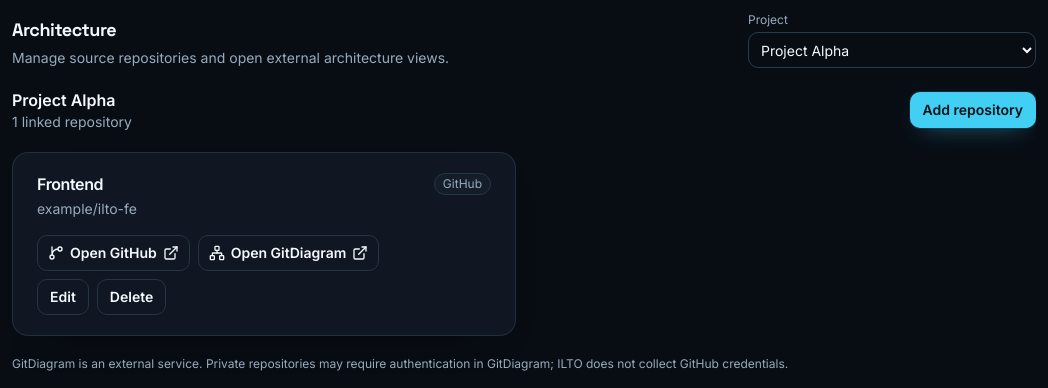
Test: Projects Architecture with a mocked backend › scopes requests by Project and removes the previous Project's cards while switching
Expected: the text "example/ilto-fe" is shown, [37,200,137,217]
Select "Project Beta" in the dropdown named "Architecture project". click: (892, 50)
box: [748,32,1036,68]
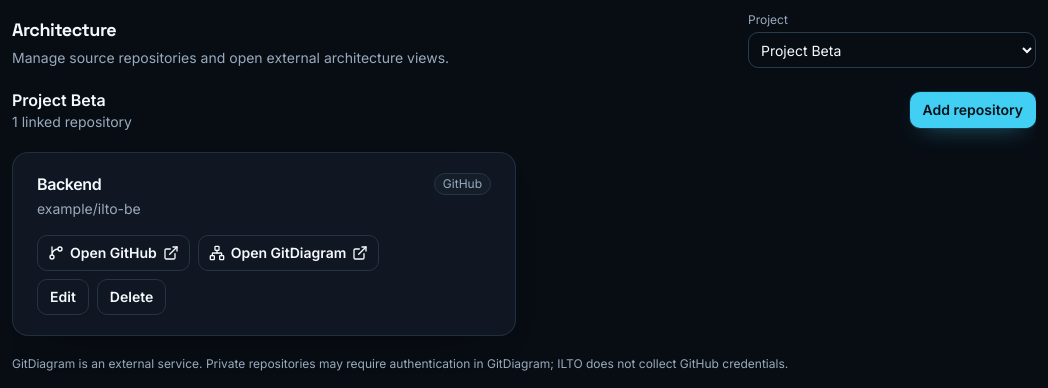
Expected: the text "example/ilto-fe" is gone
Expected: the text "example/ilto-be" is shown, [37,200,141,217]
